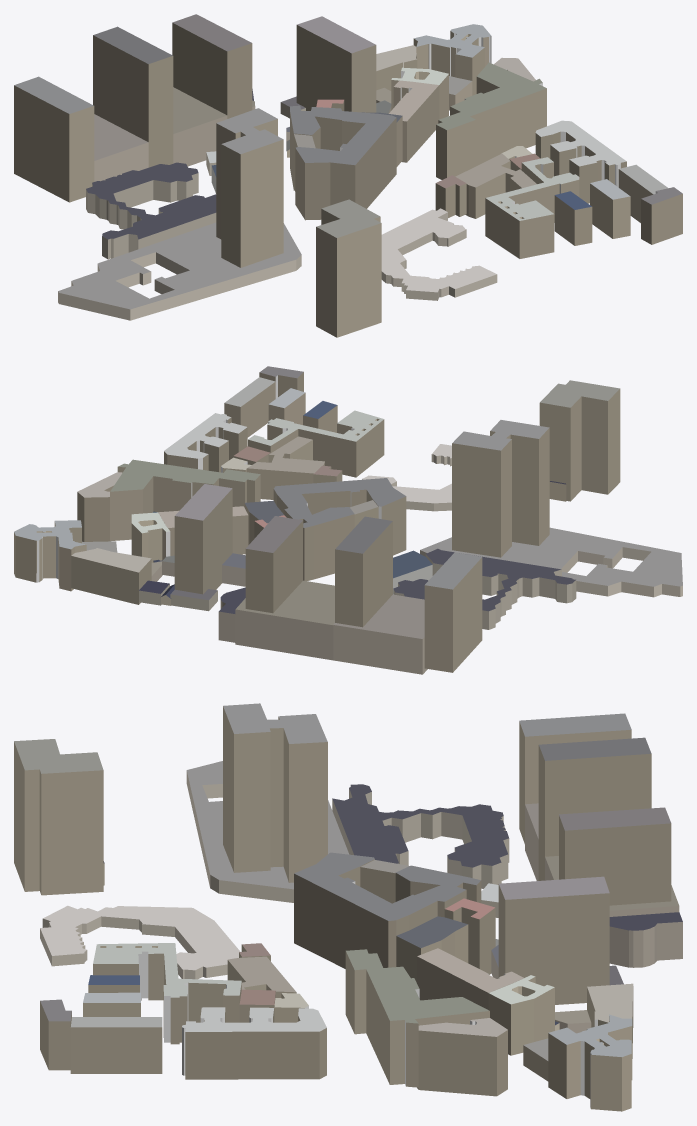
The picture shows the model from 3 angles, top to bottom: view 1: azimuth 30°, elevation 25°; view 2: azimuth 150°, elevation 25°; view 3: azimuth 270°, elevation 25°; orthographic projection. The views are drawn at different scales.
Parts seen in each view (by area): view 1: tuile; view 2: tuile; view 3: tuile.
Part boxes in pixels (x1,y1,x2,y2): tuile: (14, 14, 682, 337); tuile: (14, 366, 682, 674); tuile: (14, 703, 682, 1111).
Size of the model in its own units: 331 by 74.97 by 277.
